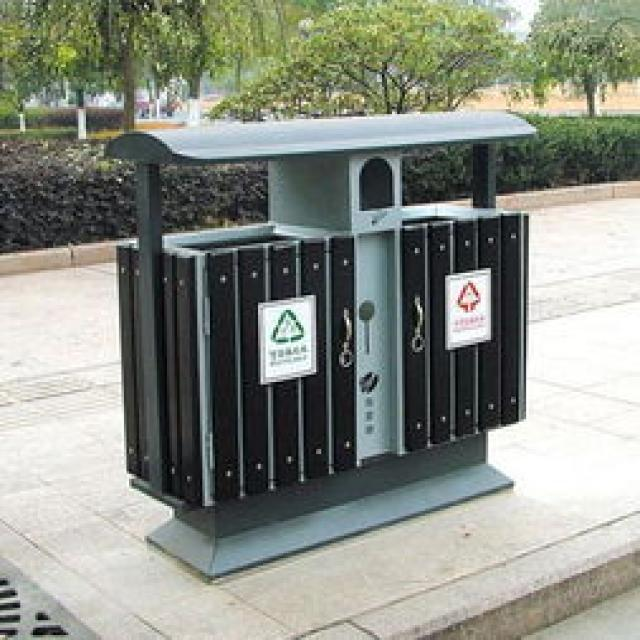garbage_bin: (99, 107, 536, 578)
